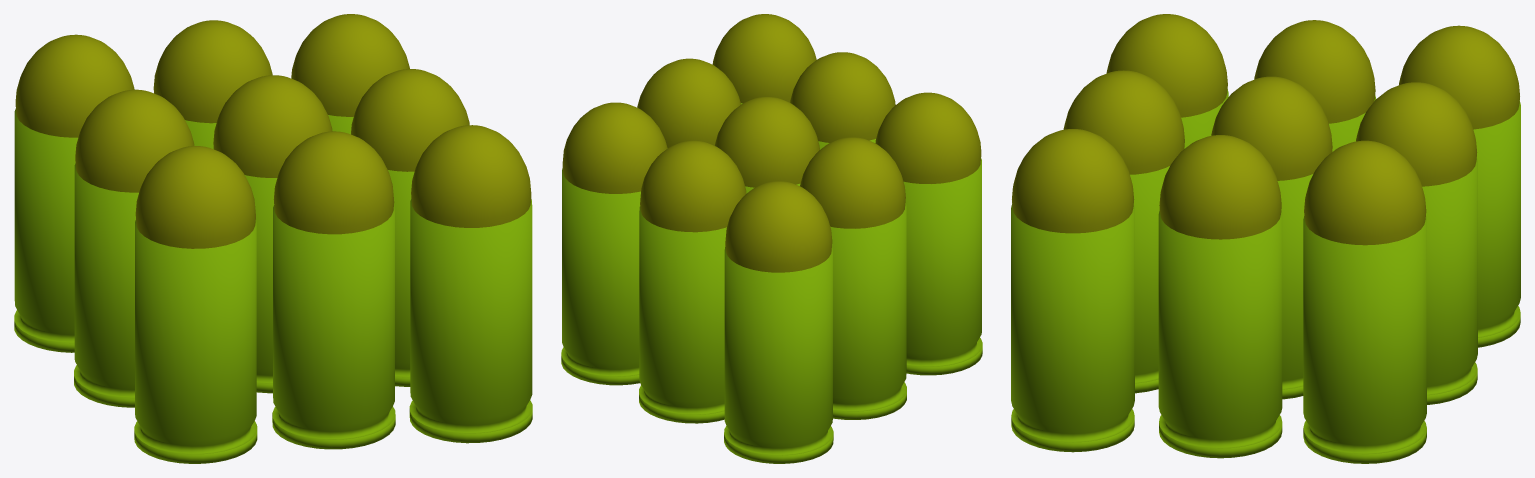
The picture shows the model from 3 angles, left to right: view 1: azimuth 30°, elevation 25°; view 2: azimuth 150°, elevation 25°; view 3: azimuth 270°, elevation 25°; orthographic projection. The views are drawn at different scales.
Visible parts, largest first — view 1: Sphere; view 2: Sphere; view 3: Sphere.
Boxes of the visible parts, x1,y1,x2,y2 form: Sphere: [14, 14, 532, 463]; Sphere: [561, 14, 982, 463]; Sphere: [1011, 14, 1520, 463].
Bounding box in the file's own units: 155 × 119 × 187.
